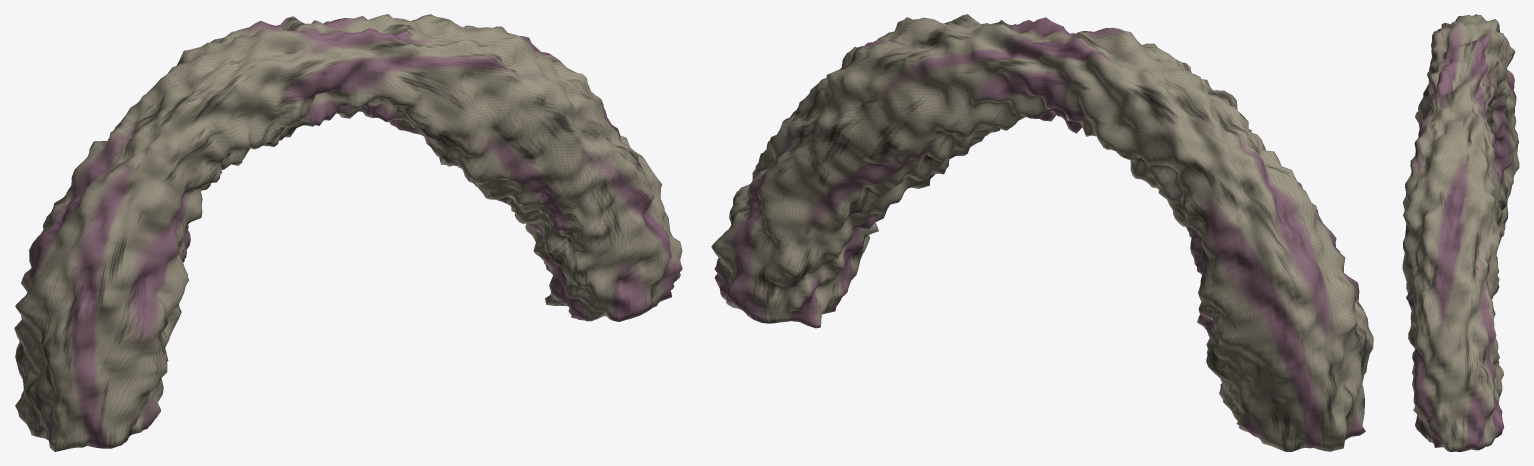
Rendered from reef-center-arch.glb.
The picture shows the model from 3 angles, left to right: view 1: azimuth 30°, elevation 25°; view 2: azimuth 150°, elevation 25°; view 3: azimuth 270°, elevation 25°; orthographic projection. The views are drawn at different scales.
Parts seen in each view (by area): view 1: Reef_Center_Arch; view 2: Reef_Center_Arch; view 3: Reef_Center_Arch.
Boxes of the visible parts, box(x1,y1,x2,y2) form: Reef_Center_Arch: box(14, 14, 682, 451); Reef_Center_Arch: box(711, 14, 1373, 451); Reef_Center_Arch: box(1402, 14, 1519, 451).
Bounding box in the file's own units: 1.08 × 0.5719 × 0.2158.
1 material, 1 textured.
